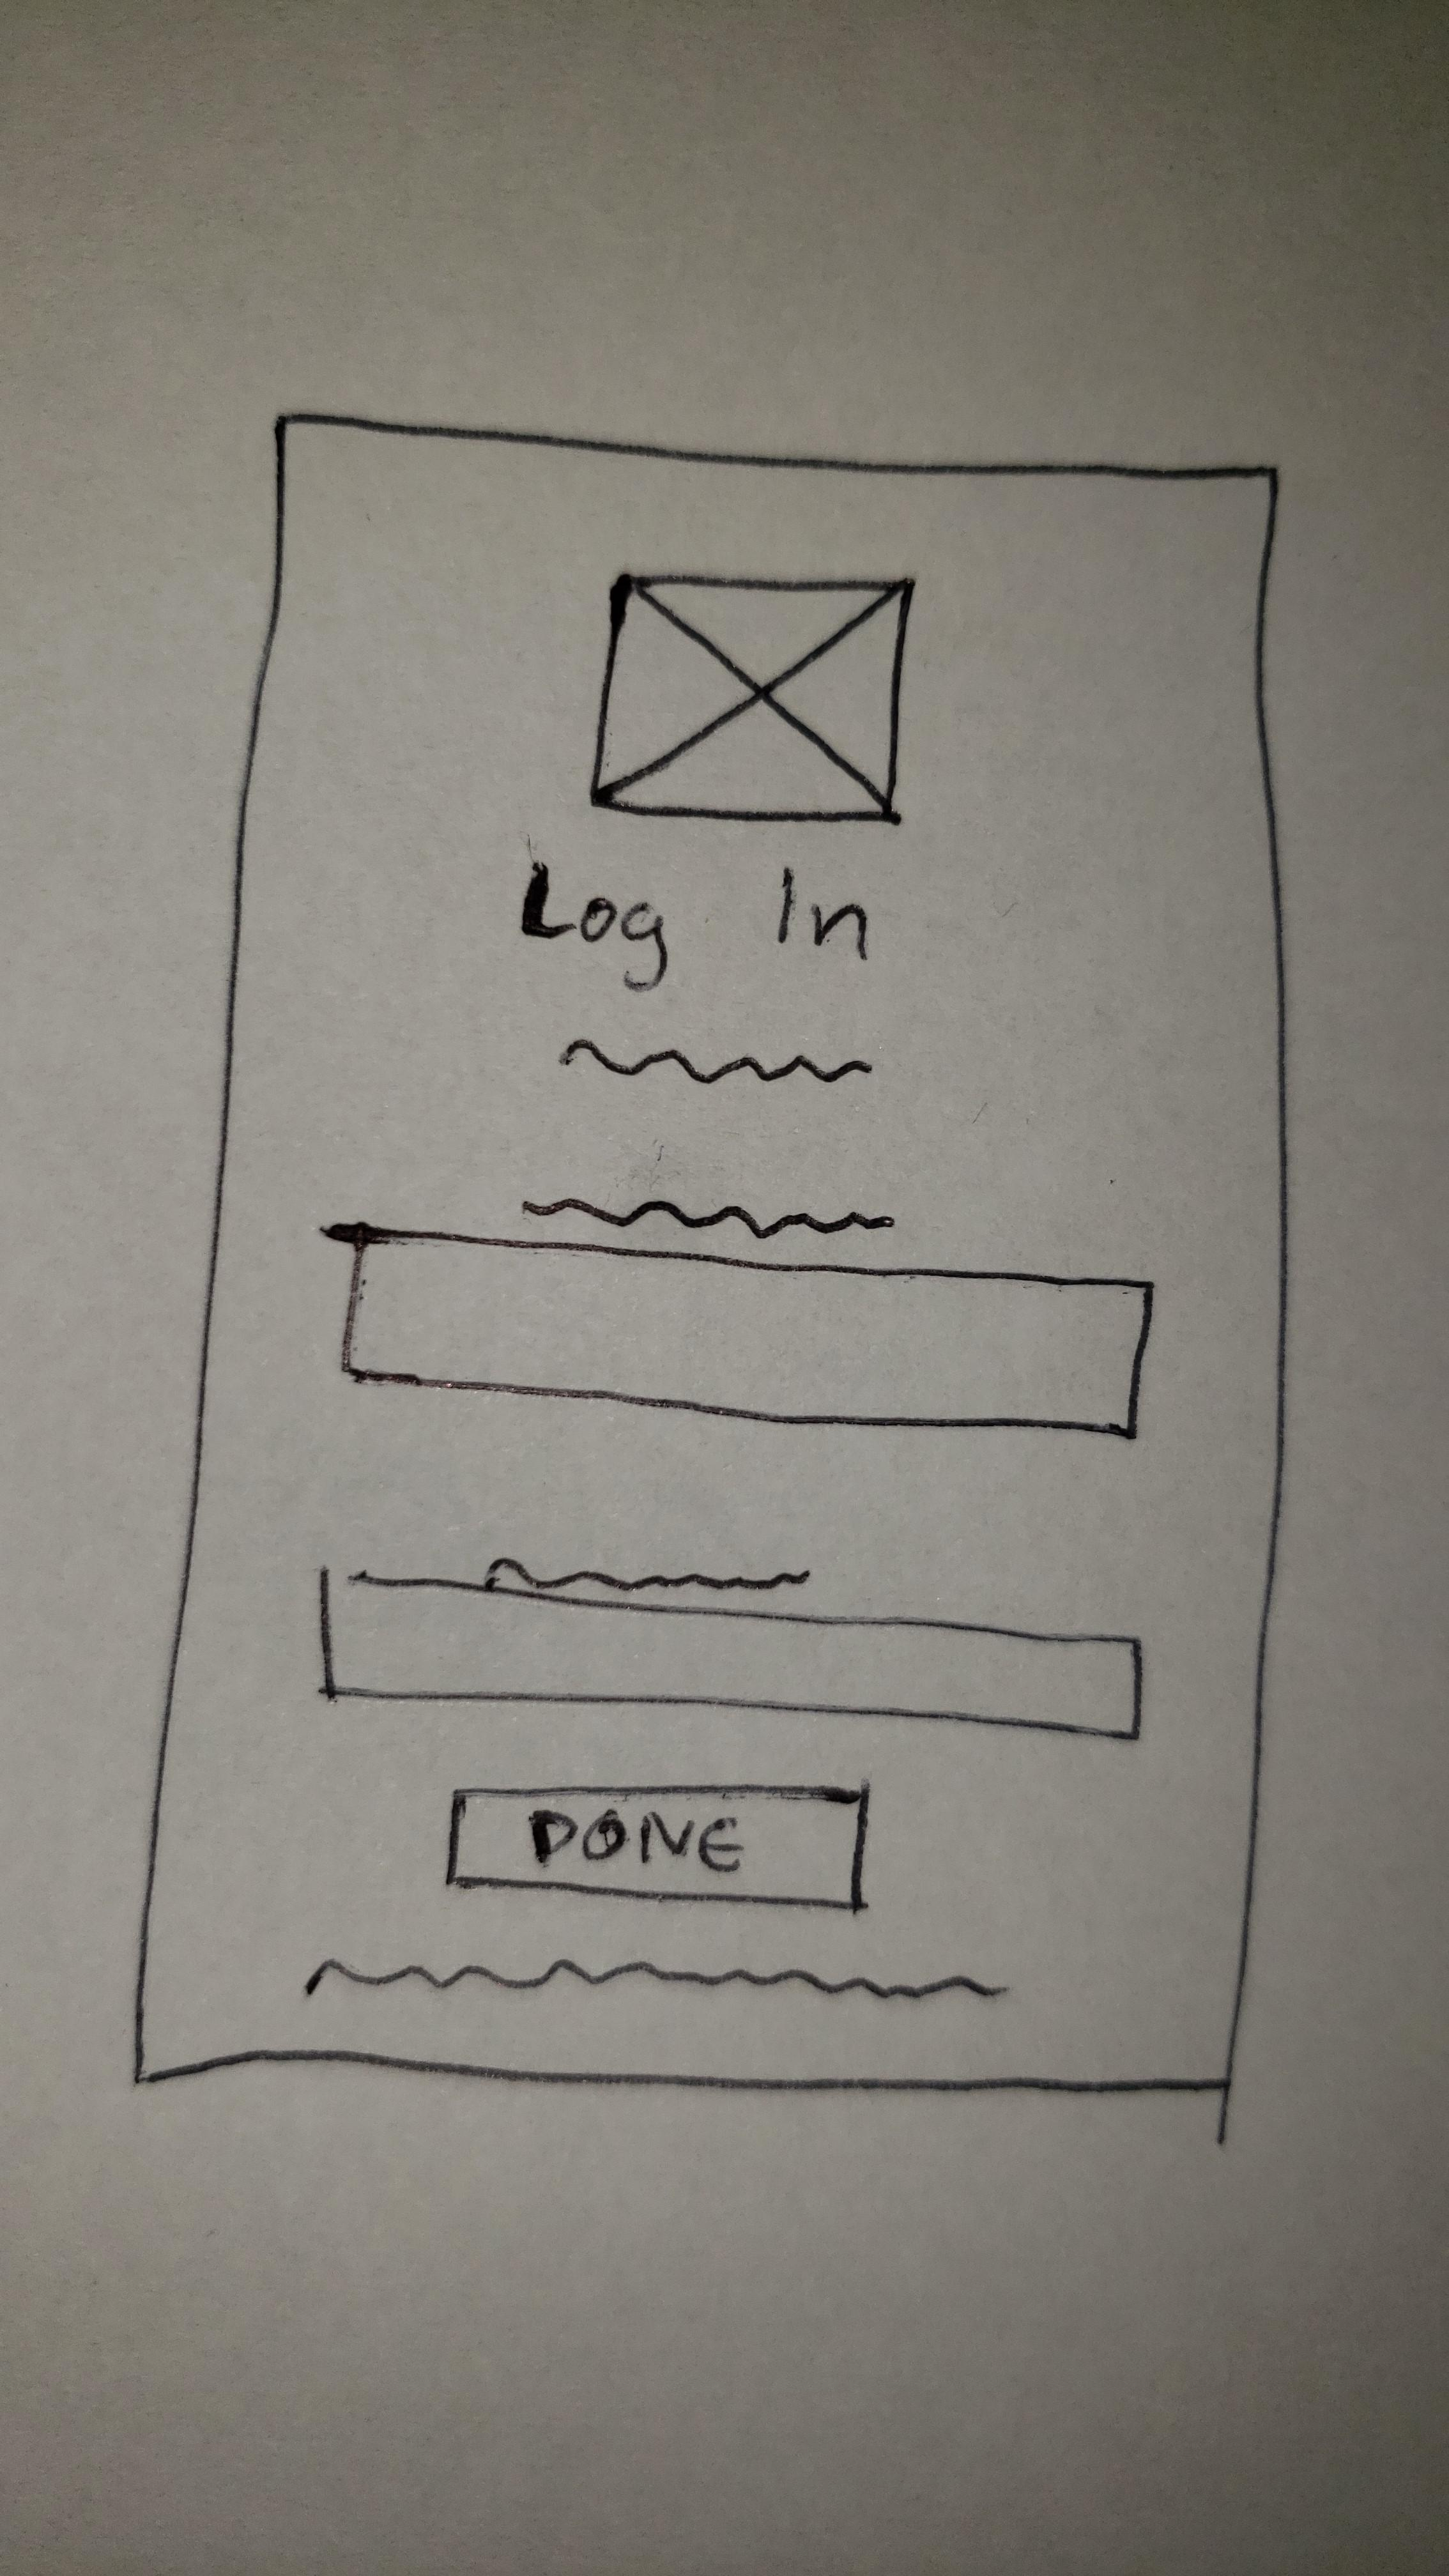Button: (442, 1780, 872, 1914)
Image: (587, 573, 915, 821)
Label: (520, 851, 874, 996), (292, 1957, 1008, 2003), (517, 1187, 893, 1246), (552, 1028, 878, 1088), (478, 1546, 819, 1599)
Screen: (133, 416, 1290, 2088)
TextBox: (343, 1226, 1157, 1445), (315, 1569, 1146, 1746)
